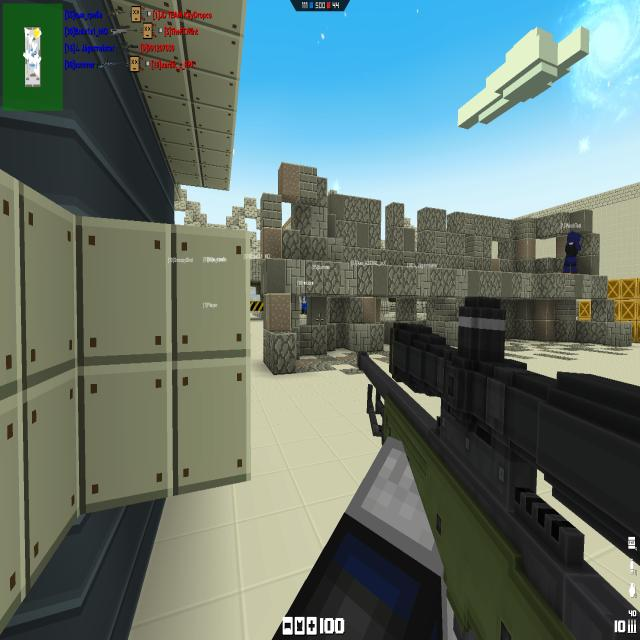player: (564, 233, 581, 273), (302, 296, 307, 313)
